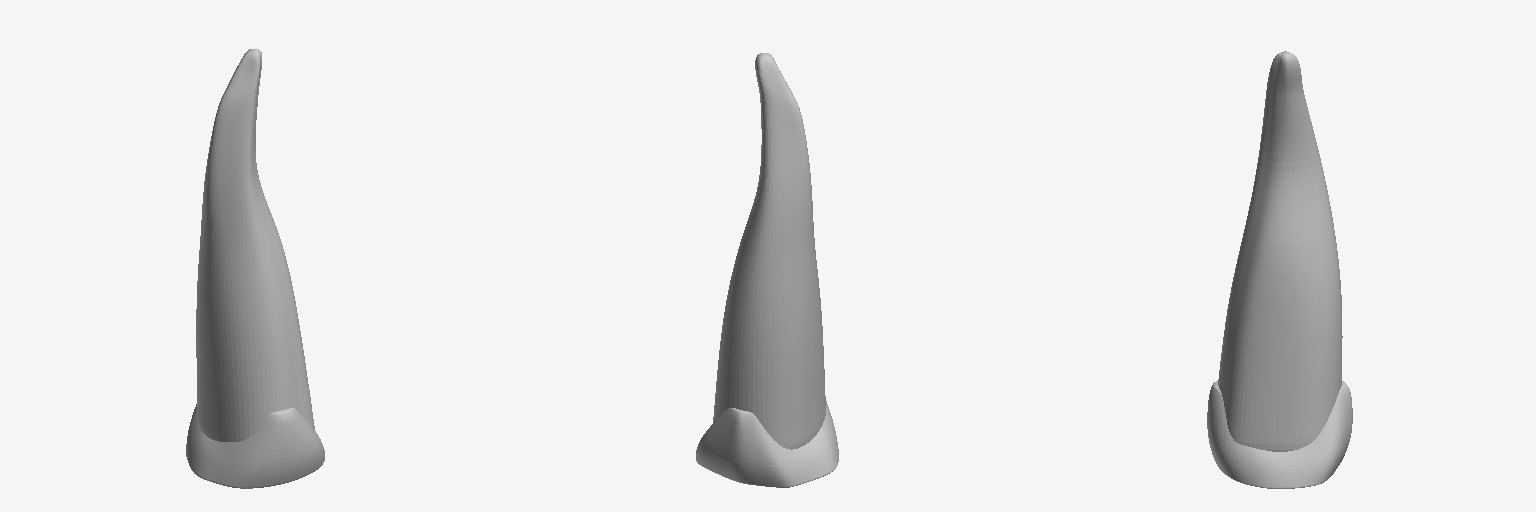
Rendered from transversal.obj.
The picture shows the model from 3 angles: view 1: azimuth 30°, elevation 25°; view 2: azimuth 150°, elevation 25°; view 3: azimuth 270°, elevation 25°; orthographic projection.
Parts seen in each view (by area): view 1: Cylinder, Cylinder.001_Cylinder.004; view 2: Cylinder, Cylinder.001_Cylinder.004; view 3: Cylinder, Cylinder.001_Cylinder.004.
Boxes of the visible parts, x1=… form: Cylinder: x1=196, y1=49, x2=314, y2=441; Cylinder.001_Cylinder.004: x1=186, y1=404, x2=324, y2=488; Cylinder: x1=713, y1=53, x2=825, y2=449; Cylinder.001_Cylinder.004: x1=696, y1=401, x2=838, y2=487; Cylinder: x1=1218, y1=51, x2=1342, y2=451; Cylinder.001_Cylinder.004: x1=1207, y1=381, x2=1352, y2=488.
Bounding box in the file's own units: 1.36 × 4.31 × 1.39.